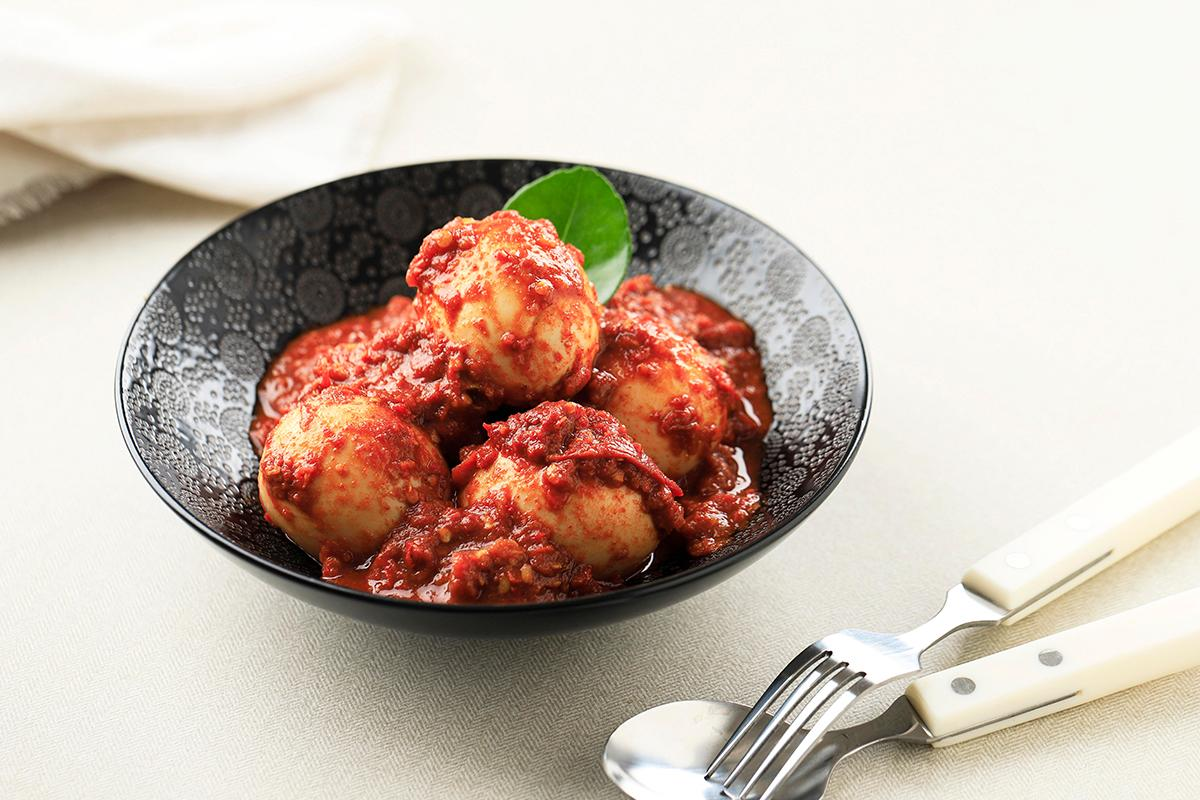telur: (261, 314, 716, 541)
